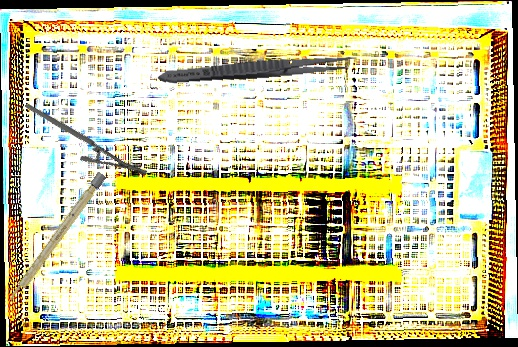Dressing Forceps: (156, 50, 358, 89)
Needle Holder: (24, 73, 149, 205)
Scalpel Handle: (6, 171, 107, 305)
